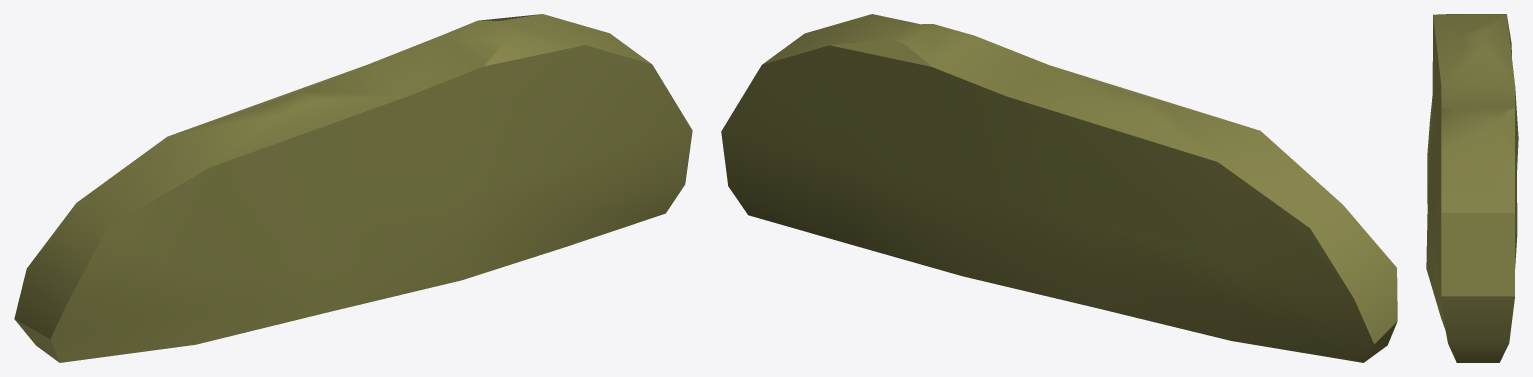
Rendered from bushwall02.fbx.
3 renders of one model, left to right at view 1: azimuth 30°, elevation 25°; view 2: azimuth 150°, elevation 25°; view 3: azimuth 270°, elevation 25°, orthographic. The views are drawn at different scales.
Visible parts, largest first — view 1: Cube.007; view 2: Cube.007; view 3: Cube.007.
Boxes of the visible parts, bbox=[...] form: Cube.007: bbox=[14, 14, 692, 362]; Cube.007: bbox=[721, 14, 1397, 362]; Cube.007: bbox=[1426, 14, 1518, 362].
Size of the model in its own units: 7 by 2.2 by 1.
